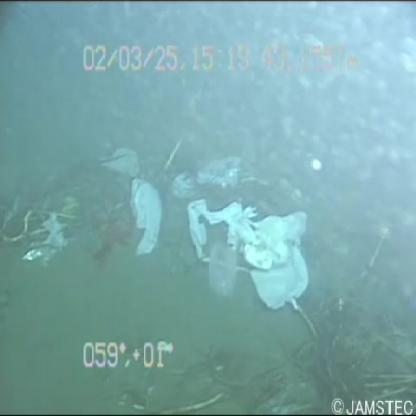Rác: (184, 180, 314, 326), (111, 170, 178, 263)
